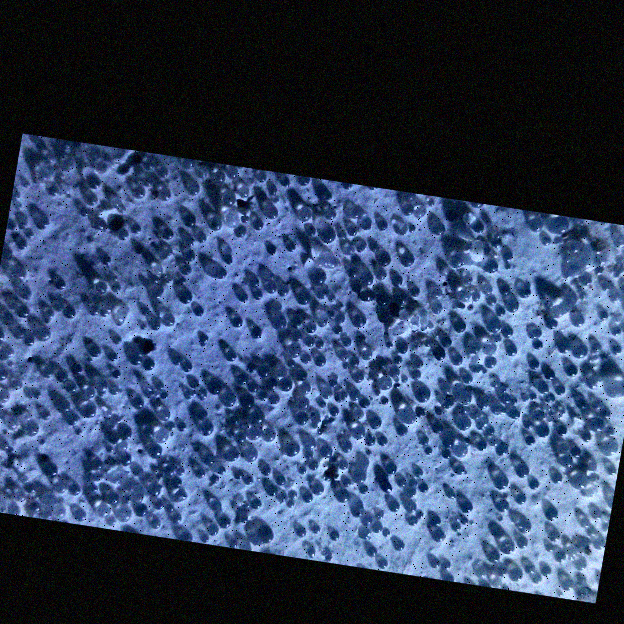GrassBeadSeg: (105, 167, 531, 533), (51, 236, 552, 518), (80, 208, 497, 494), (213, 172, 614, 467), (118, 285, 571, 541), (86, 175, 421, 494), (162, 234, 581, 457), (147, 347, 568, 563), (89, 285, 574, 471), (208, 217, 537, 489), (205, 269, 621, 480), (154, 234, 470, 510), (44, 313, 574, 470), (130, 223, 379, 557), (170, 222, 481, 486), (164, 167, 587, 359), (37, 169, 363, 397), (69, 228, 337, 494), (241, 290, 501, 563), (351, 261, 623, 518), (165, 327, 542, 512), (77, 289, 374, 520), (130, 348, 441, 566), (179, 291, 446, 542), (199, 319, 559, 505), (224, 329, 528, 548), (147, 242, 580, 394), (170, 215, 369, 524), (42, 211, 513, 338), (378, 221, 542, 584), (148, 322, 529, 477), (403, 203, 564, 567), (56, 282, 421, 437), (134, 224, 571, 353), (80, 404, 558, 521), (216, 320, 500, 515), (6, 414, 520, 516), (317, 336, 524, 582), (53, 436, 438, 568), (116, 228, 301, 502), (295, 179, 588, 350), (90, 315, 390, 482), (263, 206, 418, 526), (378, 217, 582, 458), (115, 355, 403, 522), (142, 158, 280, 497), (118, 340, 324, 556), (376, 254, 621, 434), (320, 217, 557, 400), (95, 281, 277, 517), (133, 192, 256, 530), (37, 218, 239, 421), (131, 305, 307, 536), (323, 207, 487, 451), (335, 326, 537, 523), (129, 353, 507, 455), (145, 244, 393, 398), (352, 314, 546, 510), (189, 215, 389, 405), (351, 409, 587, 569), (64, 415, 540, 492), (312, 268, 545, 420), (155, 383, 533, 476), (225, 350, 400, 550), (237, 291, 423, 477), (247, 277, 543, 383), (9, 441, 479, 507), (194, 254, 380, 420), (202, 325, 420, 466), (199, 232, 393, 390), (336, 240, 583, 362), (136, 277, 261, 517), (269, 261, 384, 519), (252, 290, 414, 473), (170, 465, 452, 570), (220, 391, 405, 551), (58, 278, 206, 478), (233, 226, 370, 439), (148, 340, 324, 495), (106, 510, 487, 579), (115, 235, 403, 326), (74, 412, 309, 521), (74, 427, 409, 503), (117, 435, 456, 510), (295, 207, 374, 527), (323, 307, 622, 391), (66, 251, 209, 424), (329, 315, 438, 541), (27, 333, 268, 435), (296, 294, 472, 431), (382, 341, 498, 533), (338, 253, 416, 512), (112, 278, 254, 419), (375, 297, 460, 532), (119, 454, 312, 557), (448, 254, 520, 530), (478, 418, 588, 596), (296, 208, 383, 429), (335, 336, 445, 502), (171, 171, 259, 372), (50, 190, 115, 453), (146, 317, 221, 536), (104, 449, 275, 544), (224, 387, 431, 462), (298, 341, 504, 415), (268, 392, 370, 540), (223, 291, 313, 456), (392, 320, 467, 511), (148, 228, 336, 300), (43, 281, 108, 477), (157, 357, 424, 403), (384, 528, 576, 591), (314, 318, 558, 367), (209, 381, 385, 447), (32, 423, 164, 510), (144, 433, 239, 548), (157, 428, 278, 518), (217, 493, 518, 528), (142, 158, 227, 280), (224, 215, 553, 246), (141, 359, 432, 394), (216, 467, 382, 528), (477, 425, 559, 542), (249, 499, 388, 568), (310, 271, 433, 348), (352, 357, 473, 433), (173, 477, 417, 514), (192, 305, 585, 327), (420, 434, 618, 476), (277, 287, 366, 375), (366, 410, 467, 487), (17, 144, 74, 279), (458, 502, 551, 575), (146, 228, 174, 455), (397, 321, 457, 425), (435, 349, 500, 445), (430, 302, 470, 457), (268, 191, 361, 255), (93, 219, 150, 315), (375, 446, 451, 516), (473, 356, 565, 412), (244, 445, 329, 502), (553, 250, 623, 319), (237, 373, 370, 409), (428, 306, 518, 356), (397, 287, 506, 328), (229, 259, 301, 321), (390, 335, 501, 375), (261, 173, 317, 252), (112, 421, 187, 479), (405, 480, 503, 523), (0, 413, 47, 501), (359, 275, 518, 301), (0, 362, 68, 421), (177, 470, 249, 523), (149, 517, 441, 530), (186, 158, 250, 215), (505, 237, 590, 279), (8, 194, 69, 249), (439, 233, 500, 286), (582, 275, 622, 355), (457, 212, 511, 269), (476, 560, 561, 596), (312, 399, 370, 451), (532, 222, 555, 350), (0, 347, 52, 403), (256, 285, 287, 377), (456, 394, 490, 474), (501, 540, 587, 571), (20, 272, 76, 319), (60, 370, 121, 412), (200, 362, 257, 406), (279, 378, 357, 409), (403, 191, 457, 235), (287, 461, 320, 533), (243, 226, 264, 339), (321, 286, 344, 387), (15, 460, 54, 519), (342, 479, 456, 499), (242, 393, 286, 443), (19, 179, 58, 235), (570, 366, 611, 419), (15, 288, 63, 331), (343, 359, 400, 395), (88, 304, 147, 338), (137, 159, 208, 186), (586, 240, 623, 291), (576, 446, 612, 496), (85, 176, 119, 228), (357, 219, 409, 253), (501, 359, 540, 404), (290, 332, 348, 362), (213, 416, 239, 474), (114, 186, 169, 213), (163, 166, 210, 197), (416, 403, 505, 418), (255, 173, 278, 230), (443, 385, 481, 419), (1, 409, 51, 434), (262, 440, 298, 474), (333, 315, 351, 382), (267, 361, 308, 390), (0, 326, 51, 349), (544, 533, 605, 552), (105, 411, 121, 483), (163, 291, 193, 326), (303, 353, 313, 458), (486, 253, 511, 294), (545, 385, 587, 409), (190, 241, 233, 264), (14, 461, 38, 502), (587, 341, 607, 390), (344, 440, 388, 462), (58, 363, 82, 403), (232, 384, 259, 419), (409, 199, 435, 232), (410, 286, 480, 298), (536, 407, 564, 437), (530, 361, 555, 394), (490, 301, 522, 326), (333, 393, 363, 418), (166, 377, 200, 399), (90, 337, 122, 360), (316, 462, 345, 484), (372, 483, 385, 532), (583, 426, 616, 445), (250, 382, 278, 404), (273, 372, 301, 394), (587, 510, 603, 548), (164, 250, 184, 278), (273, 317, 328, 327), (339, 220, 368, 238), (307, 439, 334, 458), (113, 276, 185, 283), (581, 419, 602, 442), (153, 253, 169, 282), (461, 396, 488, 413), (382, 462, 397, 491), (145, 428, 171, 444), (567, 366, 595, 380), (471, 284, 492, 301), (233, 469, 254, 485), (292, 468, 307, 490), (236, 427, 258, 441), (277, 317, 302, 328), (210, 465, 226, 482), (264, 465, 278, 484), (339, 441, 348, 470), (277, 475, 290, 495), (556, 217, 569, 235), (247, 410, 255, 435), (241, 214, 255, 228), (575, 475, 588, 488), (579, 517, 591, 530), (316, 287, 329, 299), (155, 273, 169, 282), (252, 414, 265, 423), (285, 444, 294, 454), (155, 167, 163, 178), (315, 486, 324, 495), (246, 400, 256, 408), (339, 445, 349, 453), (273, 321, 283, 329), (301, 463, 314, 469), (294, 444, 301, 455), (265, 465, 272, 476), (385, 464, 392, 475), (385, 482, 392, 493), (239, 432, 246, 443), (213, 474, 220, 484), (279, 476, 286, 485), (255, 430, 261, 440), (291, 489, 297, 498), (300, 374, 307, 381), (275, 393, 280, 402), (365, 272, 374, 276), (306, 325, 311, 332), (317, 319, 321, 326), (167, 278, 172, 283), (615, 445, 618, 453), (312, 326, 316, 332), (280, 316, 286, 320), (188, 242, 194, 246), (248, 436, 254, 440), (256, 410, 263, 413), (283, 321, 286, 327), (299, 370, 306, 372), (308, 323, 315, 324)
